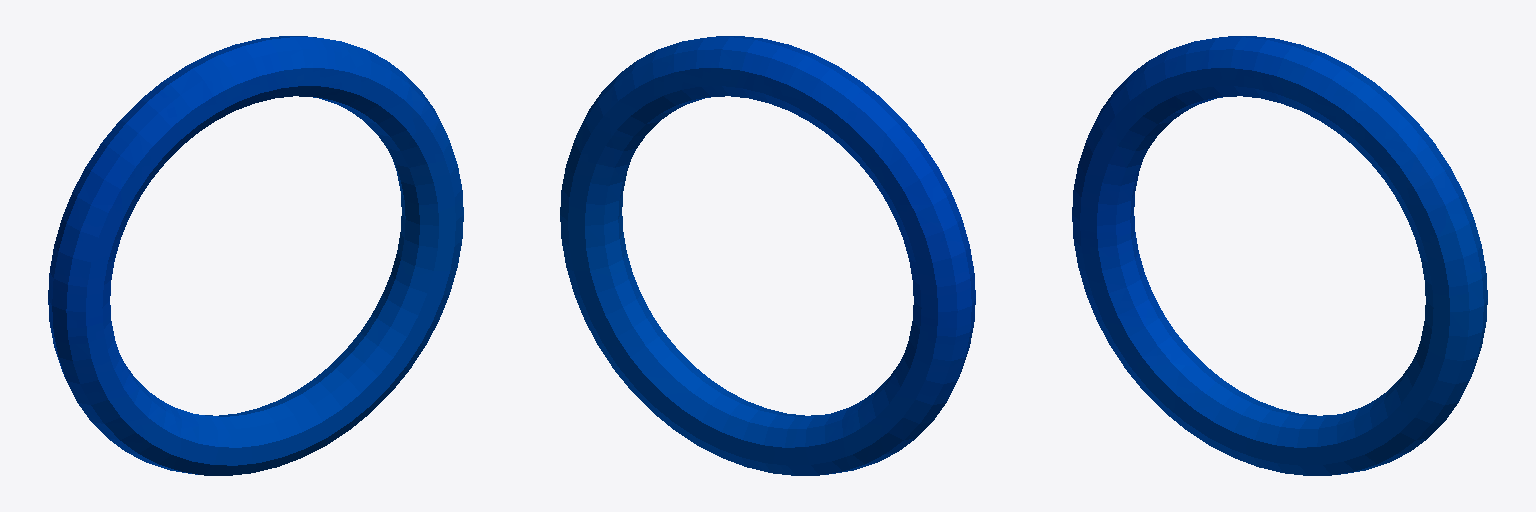
The picture shows the model from 3 angles: view 1: azimuth 30°, elevation 25°; view 2: azimuth 150°, elevation 25°; view 3: azimuth 330°, elevation 25°; orthographic projection.
Visible parts, largest first — view 1: Mesh; view 2: Mesh; view 3: Mesh.
Boxes of the visible parts, box(x1,y1,x2,y2) form: Mesh: box(48, 36, 463, 475); Mesh: box(560, 36, 975, 475); Mesh: box(1072, 36, 1487, 475).
Bounding box in the file's own units: 1.75 × 1.74 × 0.2204.
Materials: 1 (1 with a texture image).